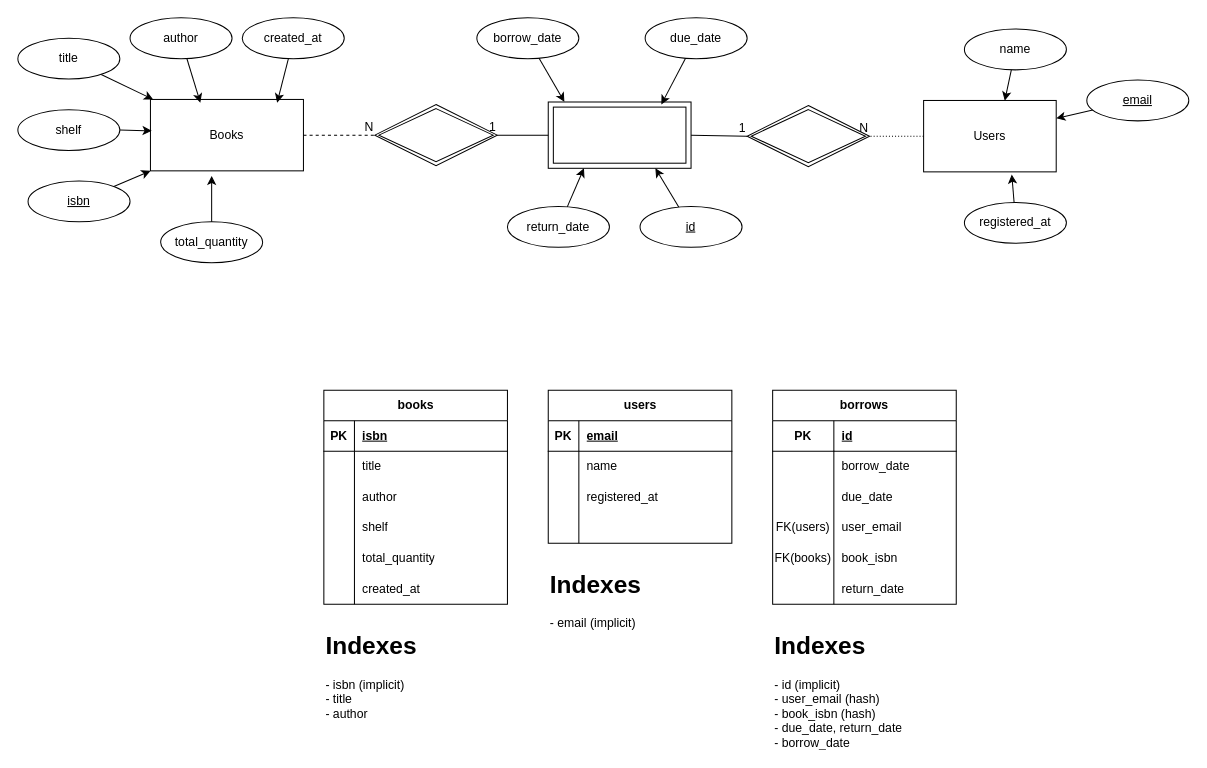
Image size: 1207x768. Some labels were removed from this diagram. Here are the shapes that lost their labels. From the top down, the centre of each, then its label:
At (435,135): "borrowed_in".
At (619,134): "Borrow".
At (808,136): "borrowed_by".
